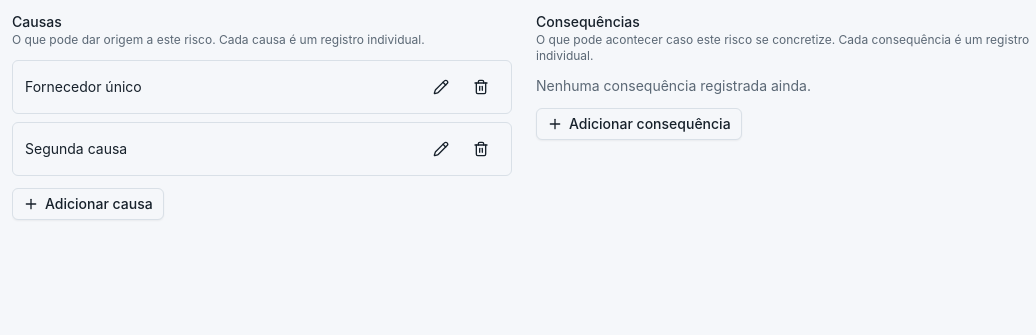
it: RiskCausesConsequences › confirming an edit sends the WHOLE list, with only that one item changed
The width and height of the screenshot is (1036, 335).
Click the button named "Editar causa 2".
click(441, 149)  # box [423,131,459,167]
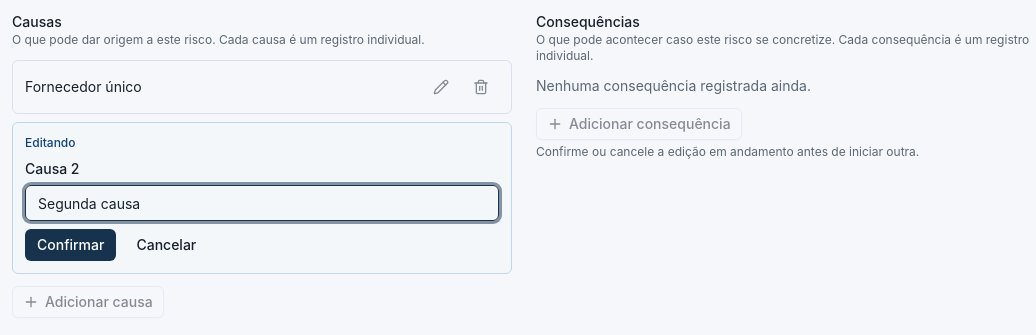
Replace the text in the field labelled "Causa 2" with "Segunda causa revisada" at (262, 203), box [25,185,499,221]
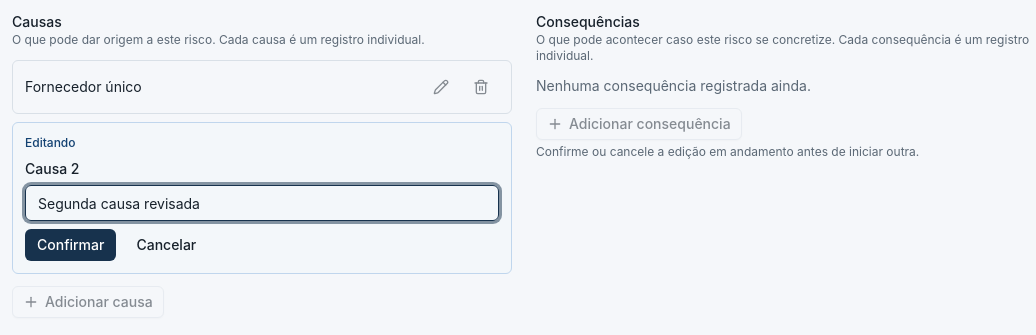
Click the button "Confirmar".
click(71, 245)  # box [25,229,116,261]
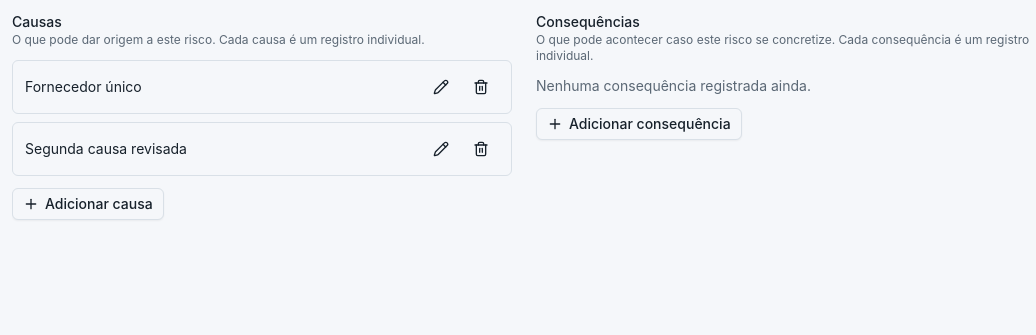
Expected: the button named "Editar causa 2" is shown, [423,131,459,167]
